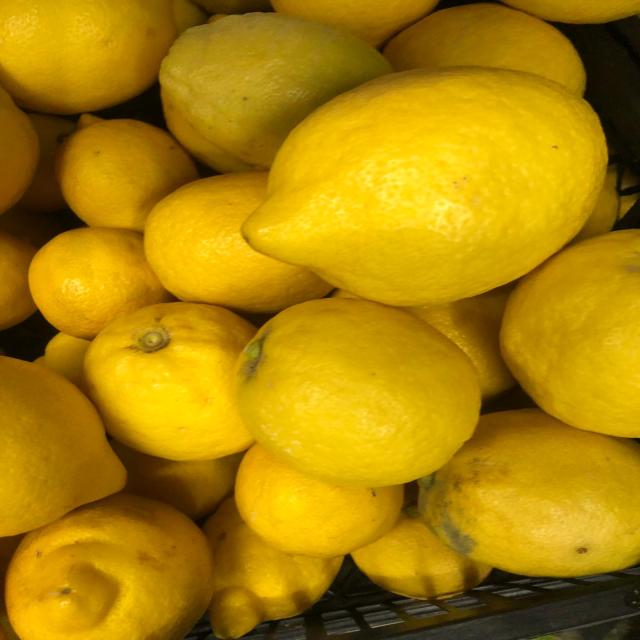lemon: (239, 59, 613, 310), (220, 291, 491, 492), (73, 288, 264, 468), (44, 101, 203, 239)
